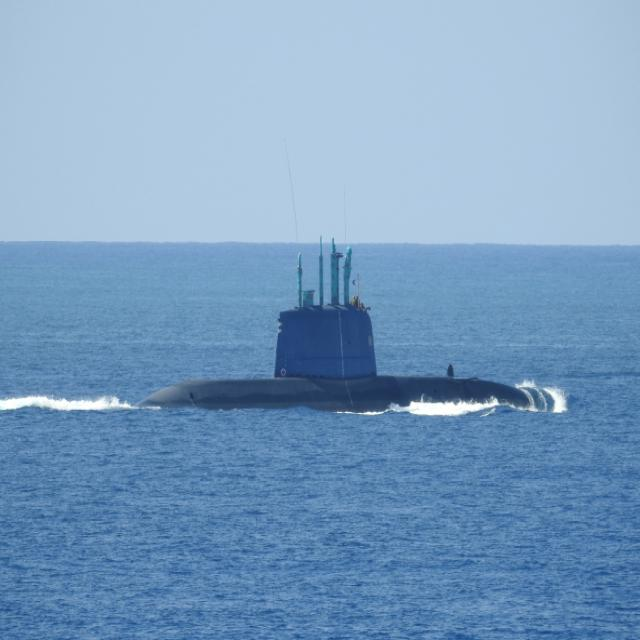submarine: (127, 233, 583, 408)
